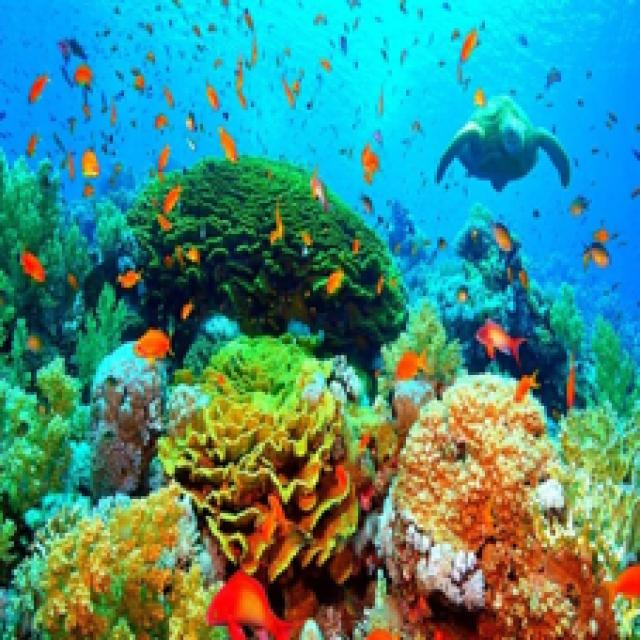Healthy: (128, 159, 404, 370), (390, 376, 602, 638), (162, 339, 376, 587), (35, 486, 212, 638), (562, 407, 638, 571), (1, 359, 77, 520), (94, 342, 165, 494)
